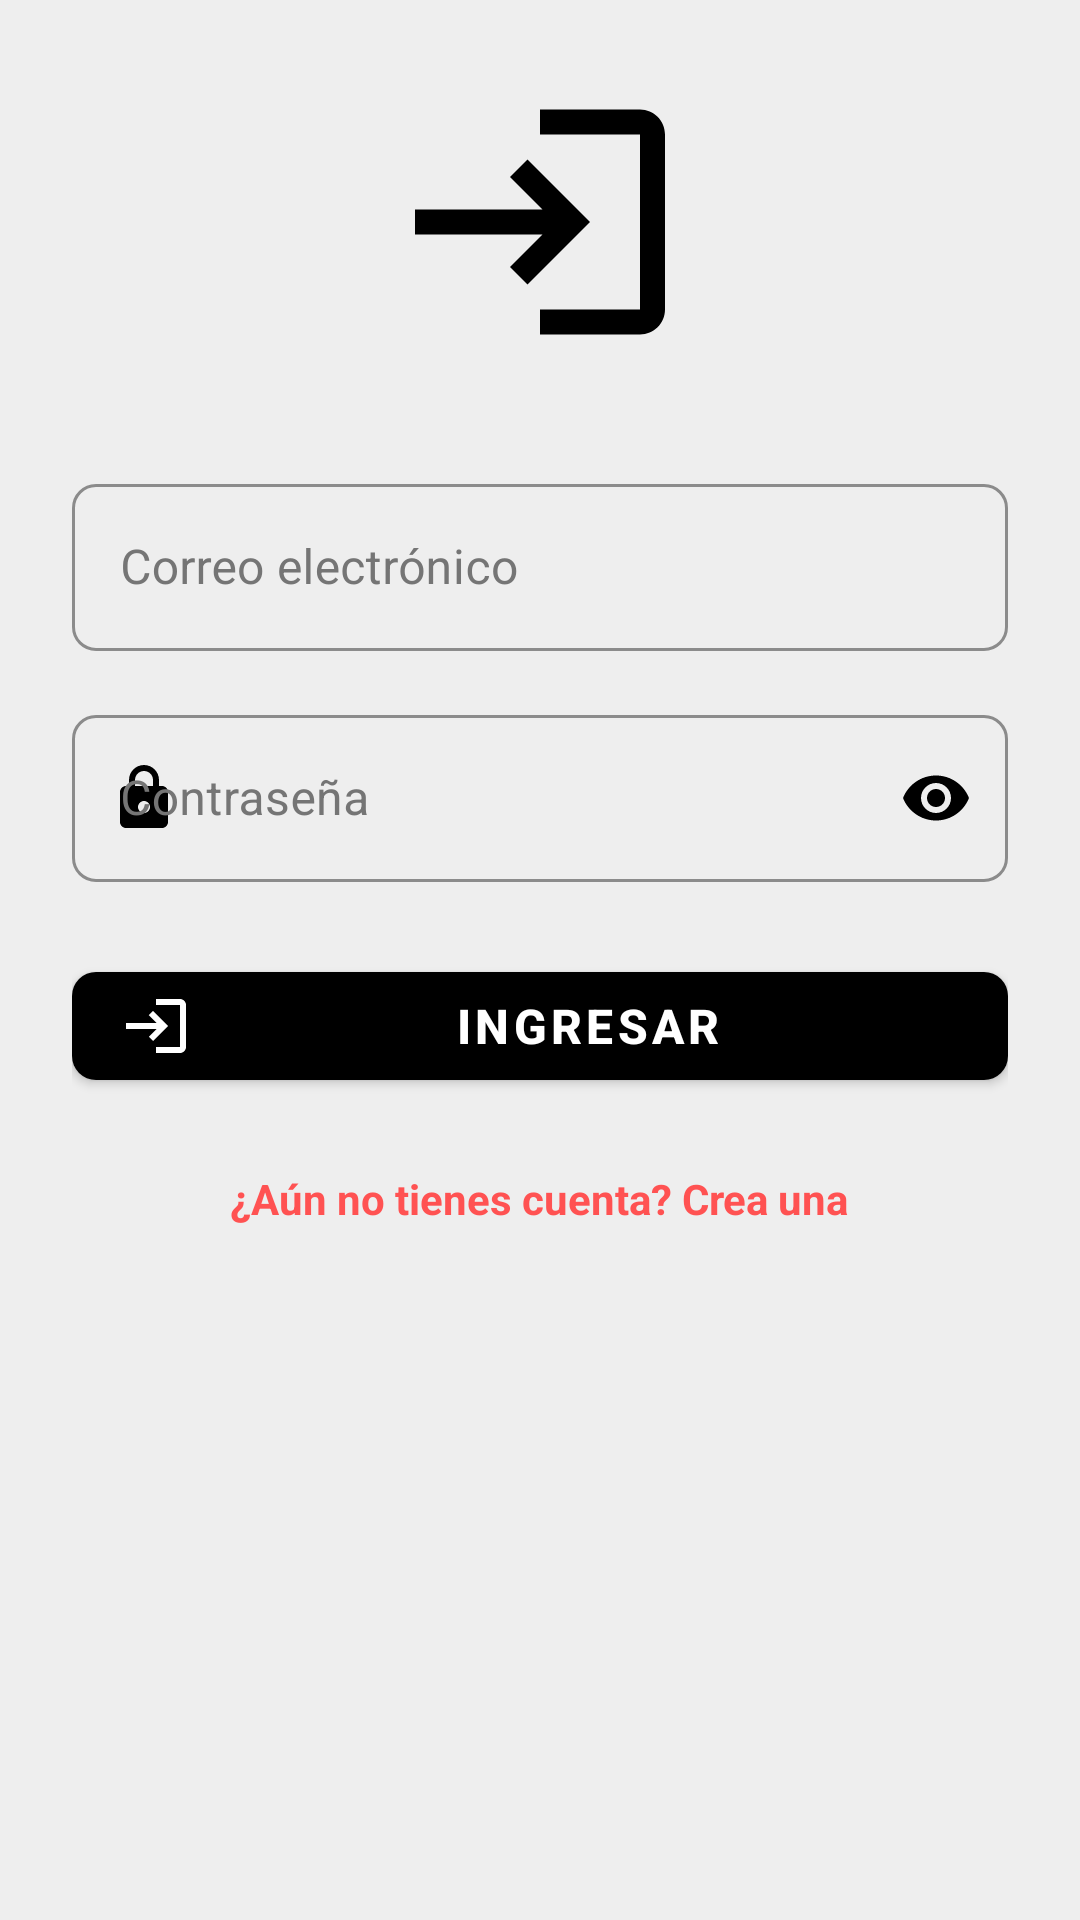

Icons on this 1080 × 1920 Android screen, each with the point to tap as (x,y):
login: (540,222)
